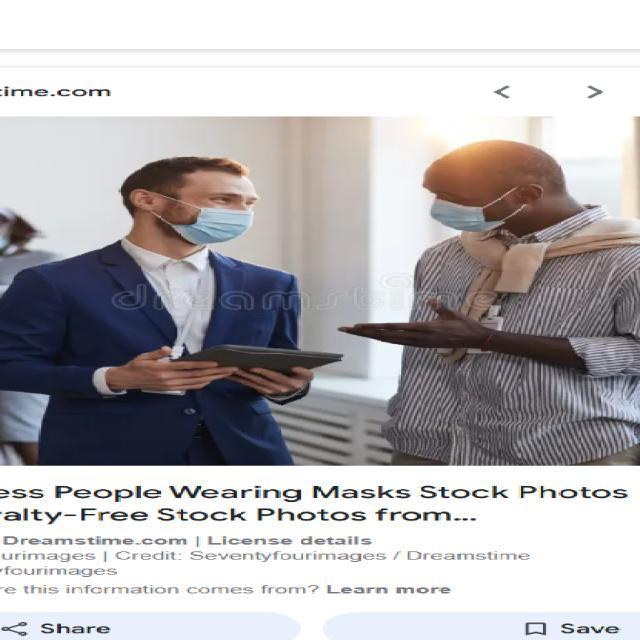face_mask: (132, 170, 259, 255), (419, 165, 552, 240)
